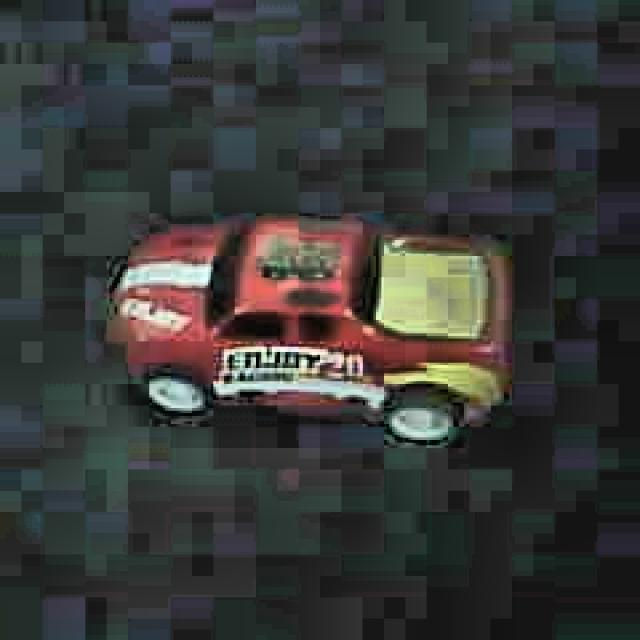car: (104, 209, 510, 445)
